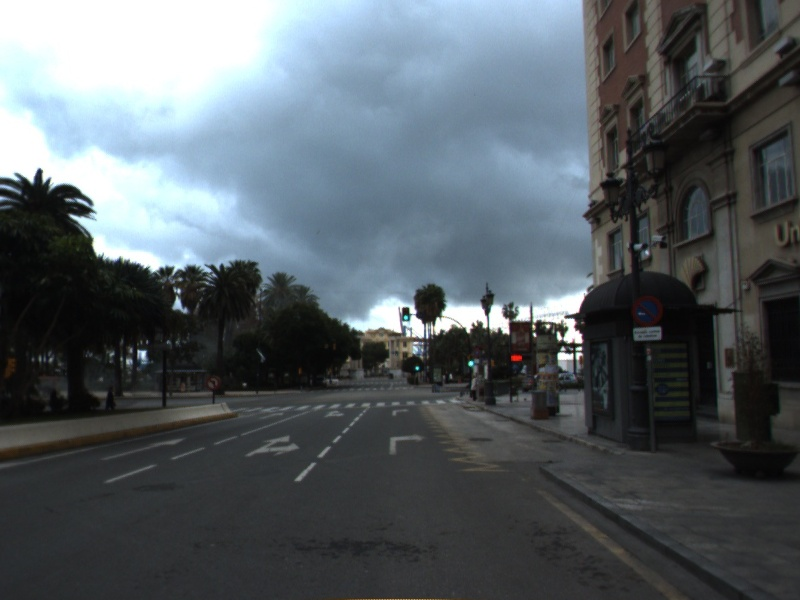RIGHT: (387, 431, 429, 457), (390, 406, 411, 418)
STRAIGHT: (95, 435, 191, 464), (257, 411, 286, 421)
STRAIGHT_RIGHT: (242, 433, 303, 459), (321, 408, 346, 419)
